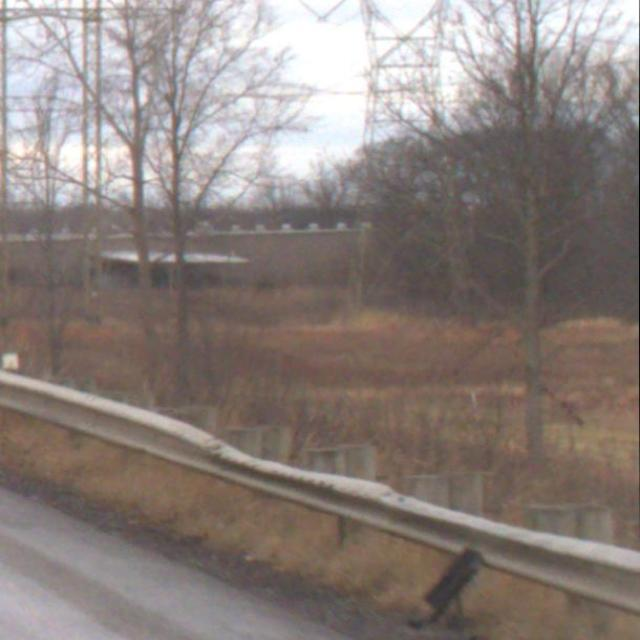Guard rail: (0, 360, 640, 640)
